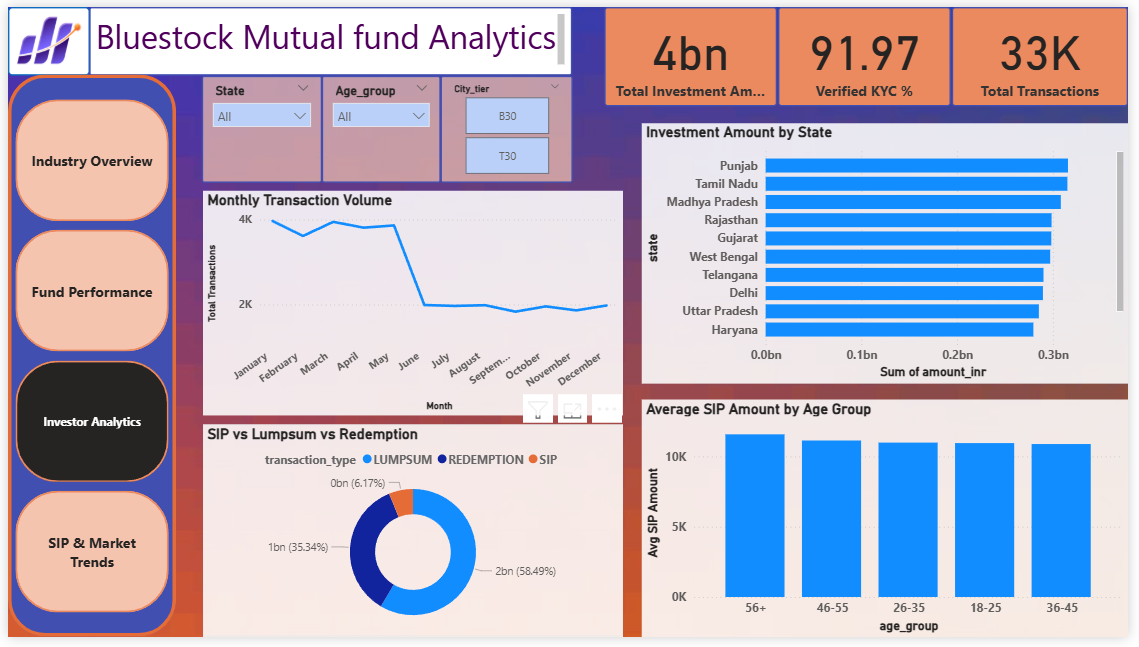

The page's visual inventory and layout, read from the dashboard file:
{"tool":"powerbi","page":{"name":"Investor Analytics","canvas":[1280,720],"ordinal":2},"visuals":[{"type":"clusteredBarChart","title":"Investment Amount by State","fields":{"Category":["fact_transactions.state"],"Y":["Sum(fact_transactions.amount_inr)"]},"box":[724.5,133.1,555.7,297.8],"z":0},{"type":"donutChart","title":"SIP vs Lumpsum vs Redemption","fields":{"Category":["fact_transactions.transaction_type"],"Y":["Sum(fact_transactions.amount_inr)"]},"box":[222.3,477.5,480.3,242.9],"z":1000},{"type":"clusteredColumnChart","title":"Average SIP Amount by Age Group","fields":{"Category":["fact_transactions.age_group"],"Y":["_Measures.Avg SIP Amount"]},"box":[724.5,448.7,555.7,271.7],"z":2000},{"type":"lineChart","title":"Monthly Transaction Volume","fields":{"Category":["fact_transactions.transaction_date.Variation.Date Hierarchy.Year","fact_transactions.transaction_date.Variation.Date Hierarchy.Quarter","fact_transactions.transaction_date.Variation.Date Hierarchy.Month","fact_transactions.transaction_date.Variation.Date Hierarchy.Day"],"Y":["_Measures.Total Transactions"]},"box":[222.3,209.9,480.3,256.6],"z":3000},{"type":"card","fields":{"Values":["_Measures.Total Investment Amount"]},"box":[682,0,197.6,113.9],"z":4000},{"type":"card","fields":{"Values":["_Measures.Verified KYC %"]},"box":[879.6,0,197.6,113.9],"z":5000},{"type":"card","fields":{"Values":["_Measures.Total Transactions"]},"box":[1078.6,0,201.7,113.9],"z":6000},{"type":"slicer","fields":{"Values":["fact_transactions.city_tier"]},"box":[494,78.2,150.9,122.1],"z":7000},{"type":"slicer","fields":{"Values":["fact_transactions.age_group"]},"box":[358.1,78.2,135.8,122.1],"z":8000},{"type":"slicer","fields":{"Values":["fact_transactions.state"]},"box":[220.9,78.2,137.2,122.1],"z":9000},{"type":"image","box":[0,0,93.3,78.2],"z":10000},{"type":"textbox","box":[93.3,0,551.6,78.2],"z":11000},{"type":"shape","box":[0,77.8,192.1,642.2],"z":12000},{"type":"pageNavigator","box":[8.2,105.7,175.6,587.3],"z":13000}]}

Visuals, with their boxes in screenshot pixels (x1, y1, x2, y2), scaled from the page's 1280x720 canvas onto the 1139x647 screenshot:
"Investment Amount by State" clusteredBarChart: {"x1": 645, "y1": 120, "x2": 1138, "y2": 387}
"SIP vs Lumpsum vs Redemption" donutChart: {"x1": 198, "y1": 429, "x2": 625, "y2": 646}
"Average SIP Amount by Age Group" clusteredColumnChart: {"x1": 645, "y1": 403, "x2": 1138, "y2": 646}
"Monthly Transaction Volume" lineChart: {"x1": 198, "y1": 189, "x2": 625, "y2": 419}
card - _Measures.Total Investment Amount: {"x1": 607, "y1": 0, "x2": 783, "y2": 102}
card - _Measures.Verified KYC %: {"x1": 783, "y1": 0, "x2": 959, "y2": 102}
card - _Measures.Total Transactions: {"x1": 960, "y1": 0, "x2": 1138, "y2": 102}
slicer - fact_transactions.city_tier: {"x1": 440, "y1": 70, "x2": 574, "y2": 180}
slicer - fact_transactions.age_group: {"x1": 319, "y1": 70, "x2": 439, "y2": 180}
slicer - fact_transactions.state: {"x1": 197, "y1": 70, "x2": 319, "y2": 180}
image: {"x1": 0, "y1": 0, "x2": 83, "y2": 70}
textbox: {"x1": 83, "y1": 0, "x2": 574, "y2": 70}
shape: {"x1": 0, "y1": 70, "x2": 171, "y2": 646}
pageNavigator: {"x1": 7, "y1": 95, "x2": 164, "y2": 623}
